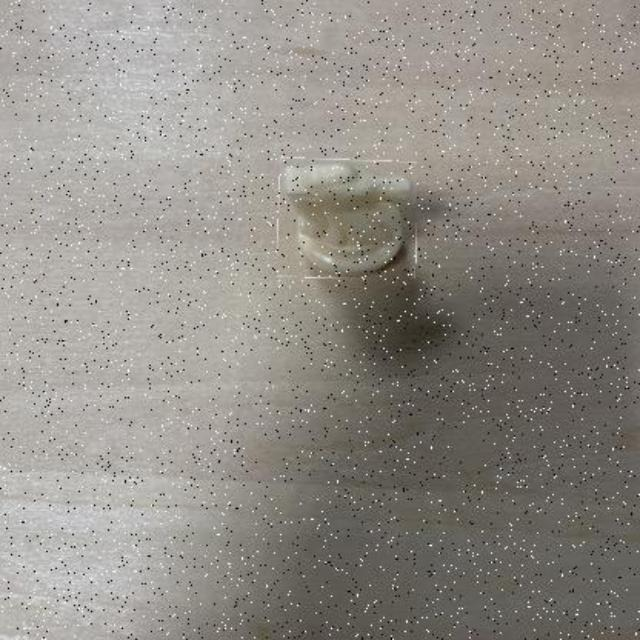white-knight: (278, 158, 418, 279)
